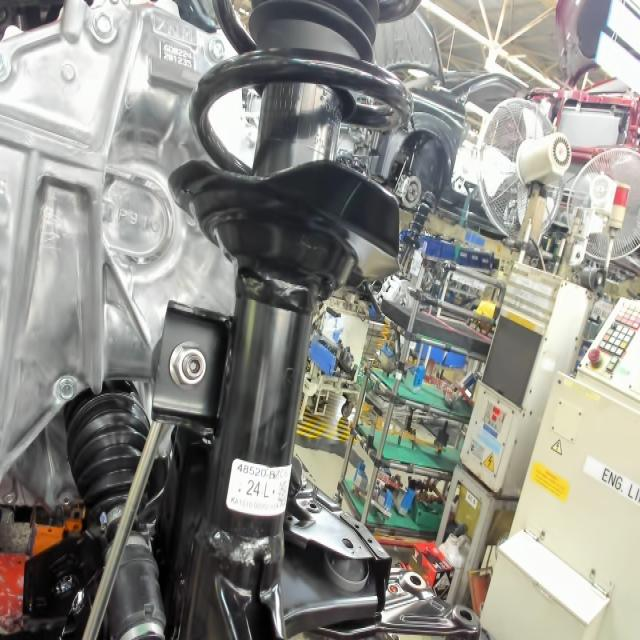Absorber LH-24: (240, 476, 275, 505)
